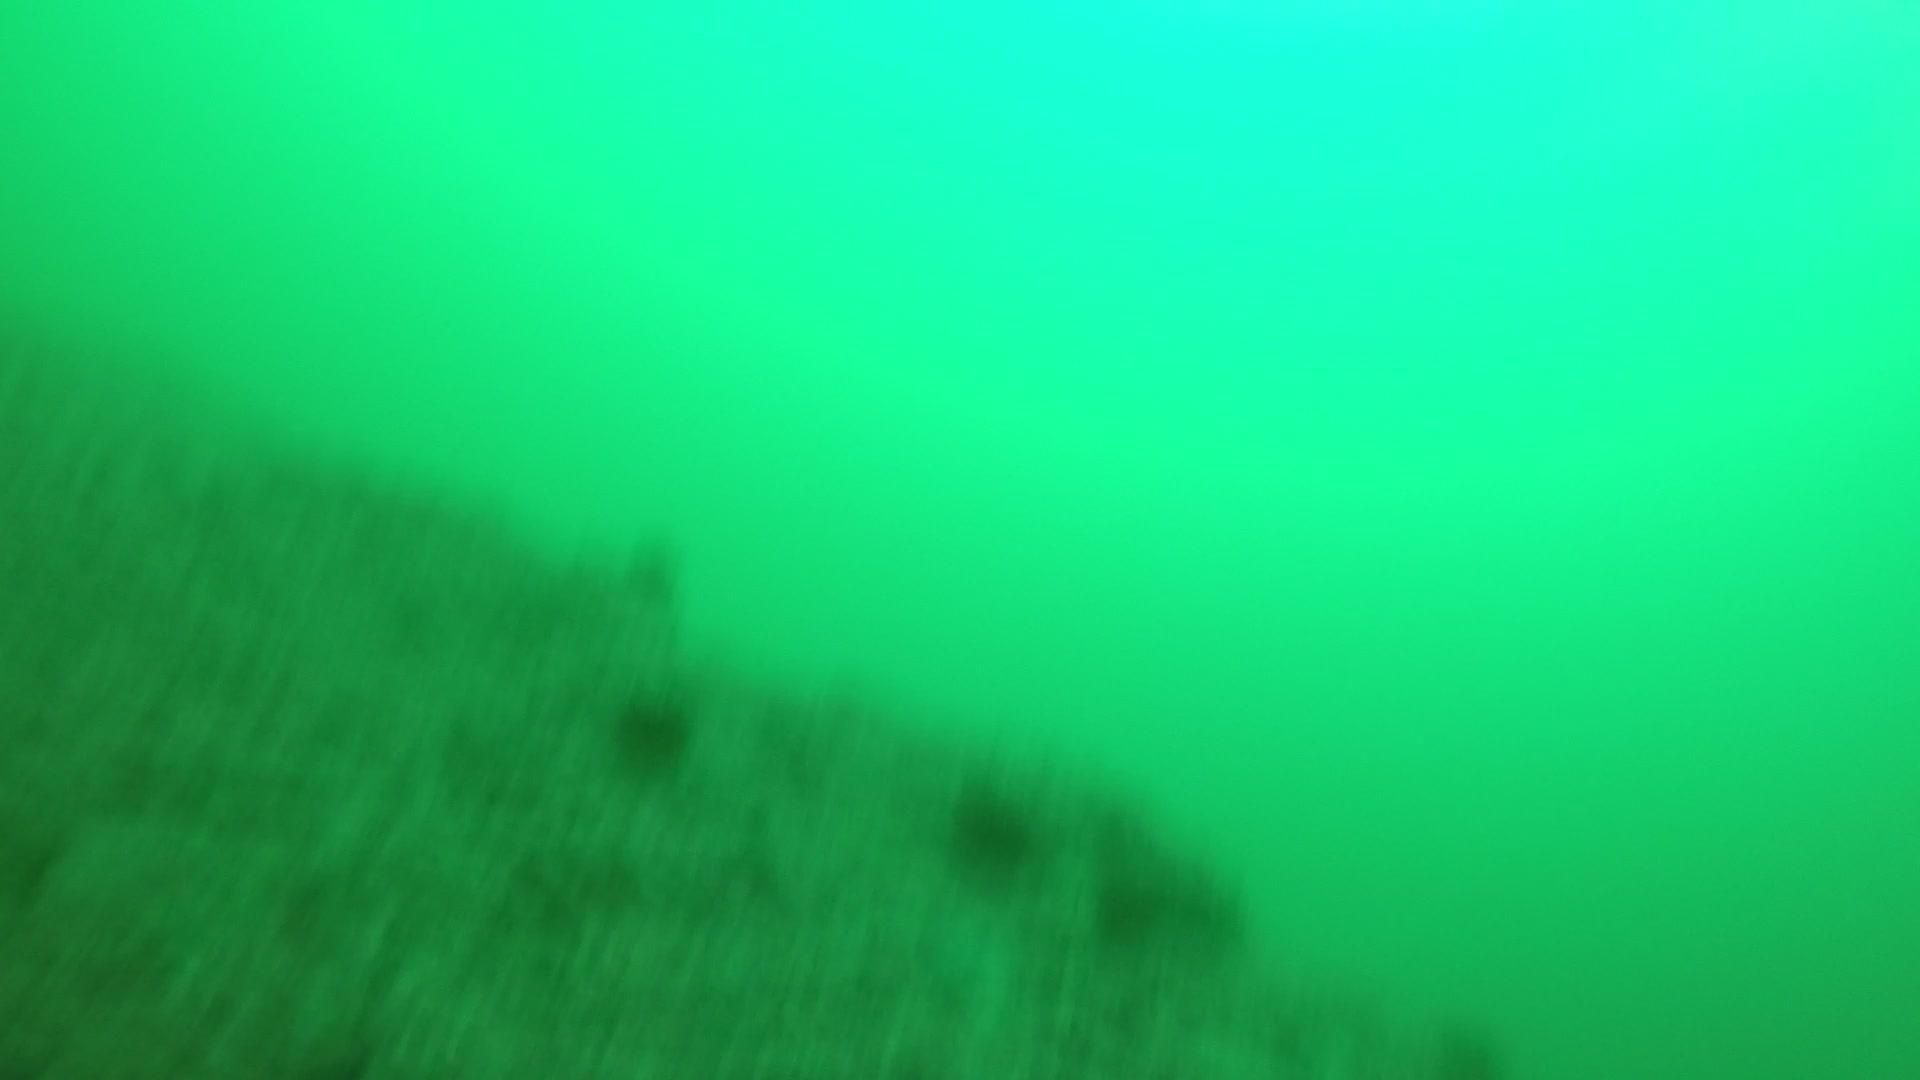echinus: (940, 775, 1043, 880), (1166, 866, 1273, 959), (604, 684, 699, 775), (1087, 865, 1170, 945), (1427, 1015, 1513, 1077), (620, 530, 688, 607)
